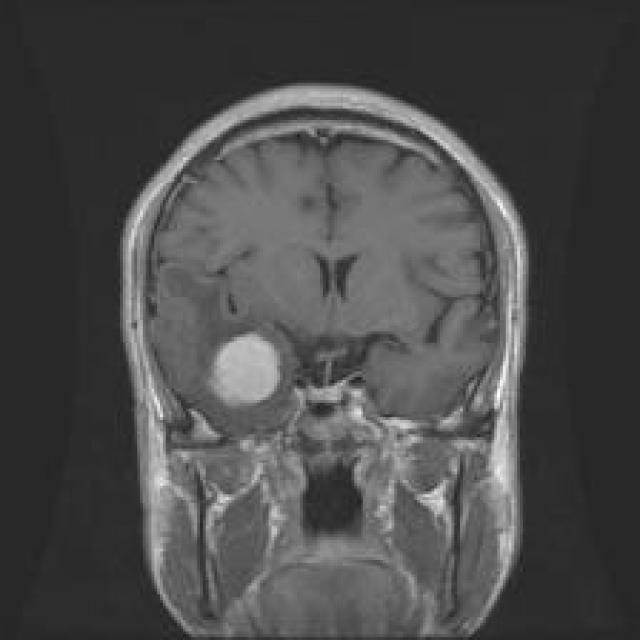meningioma_tumor: (200, 323, 288, 419)
